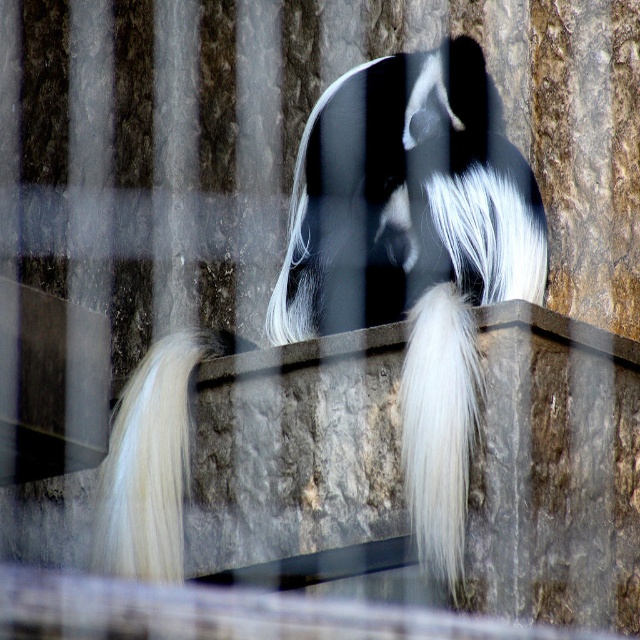Monkey: (80, 33, 509, 586)
